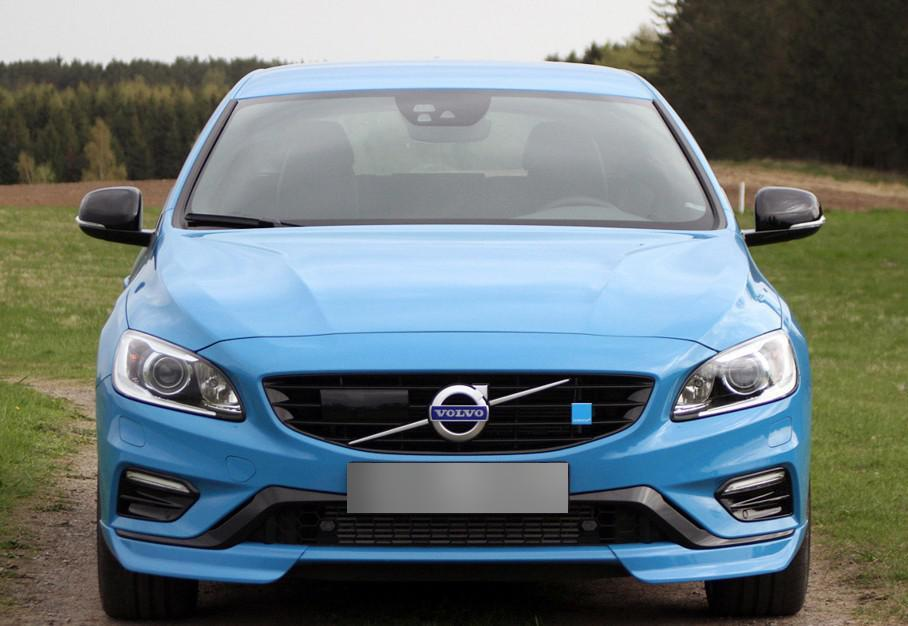Wagon: (76, 61, 826, 621)
